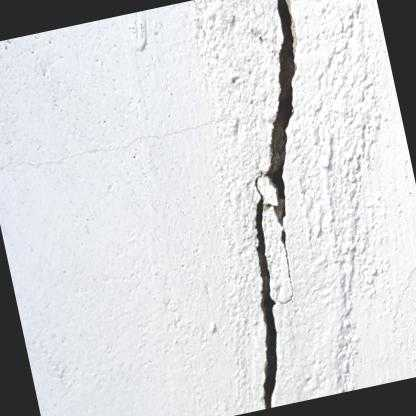crack: (253, 0, 295, 409)
